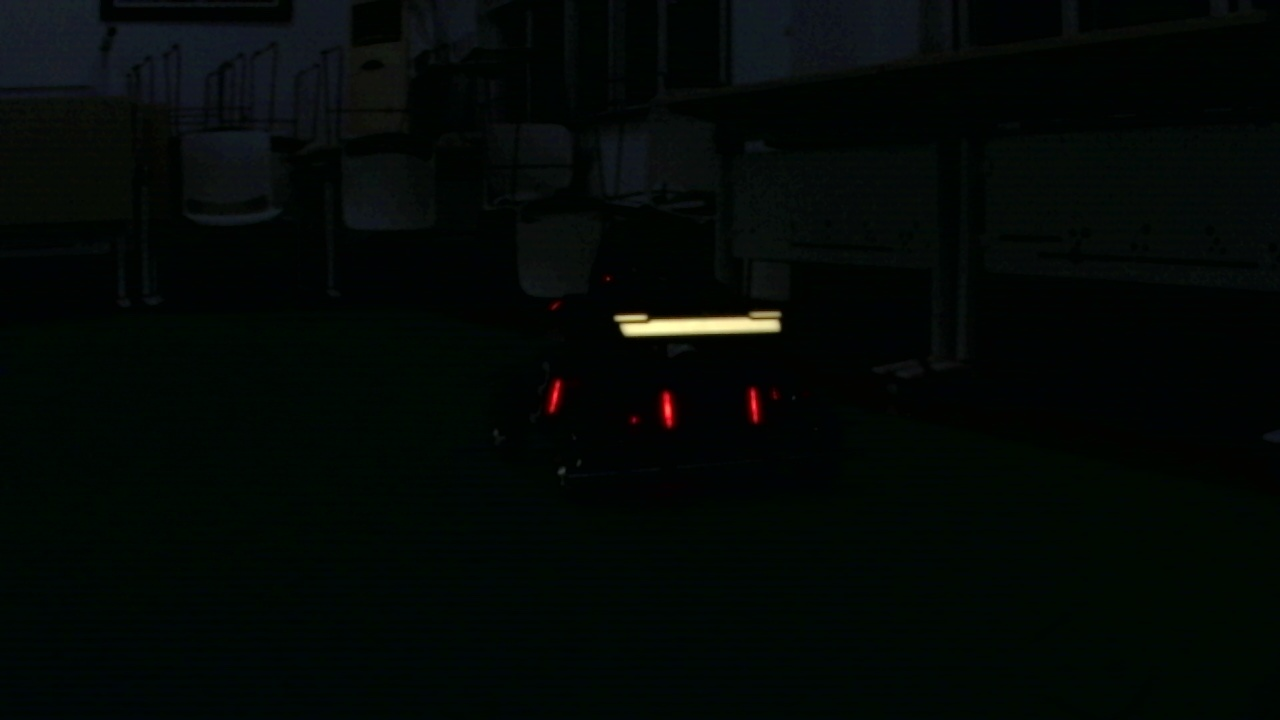lamp: (744, 389, 761, 423), (663, 388, 676, 429)
pair1: (663, 388, 760, 424)
